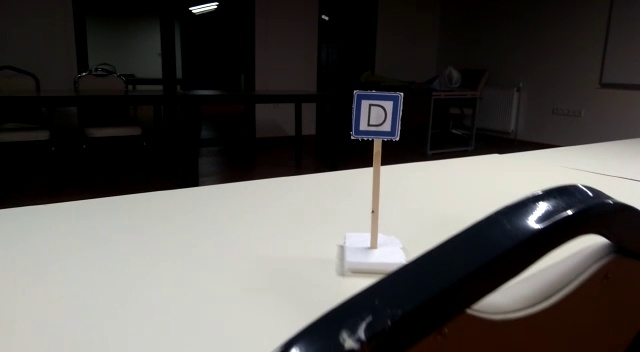durak: (350, 88, 404, 138)
